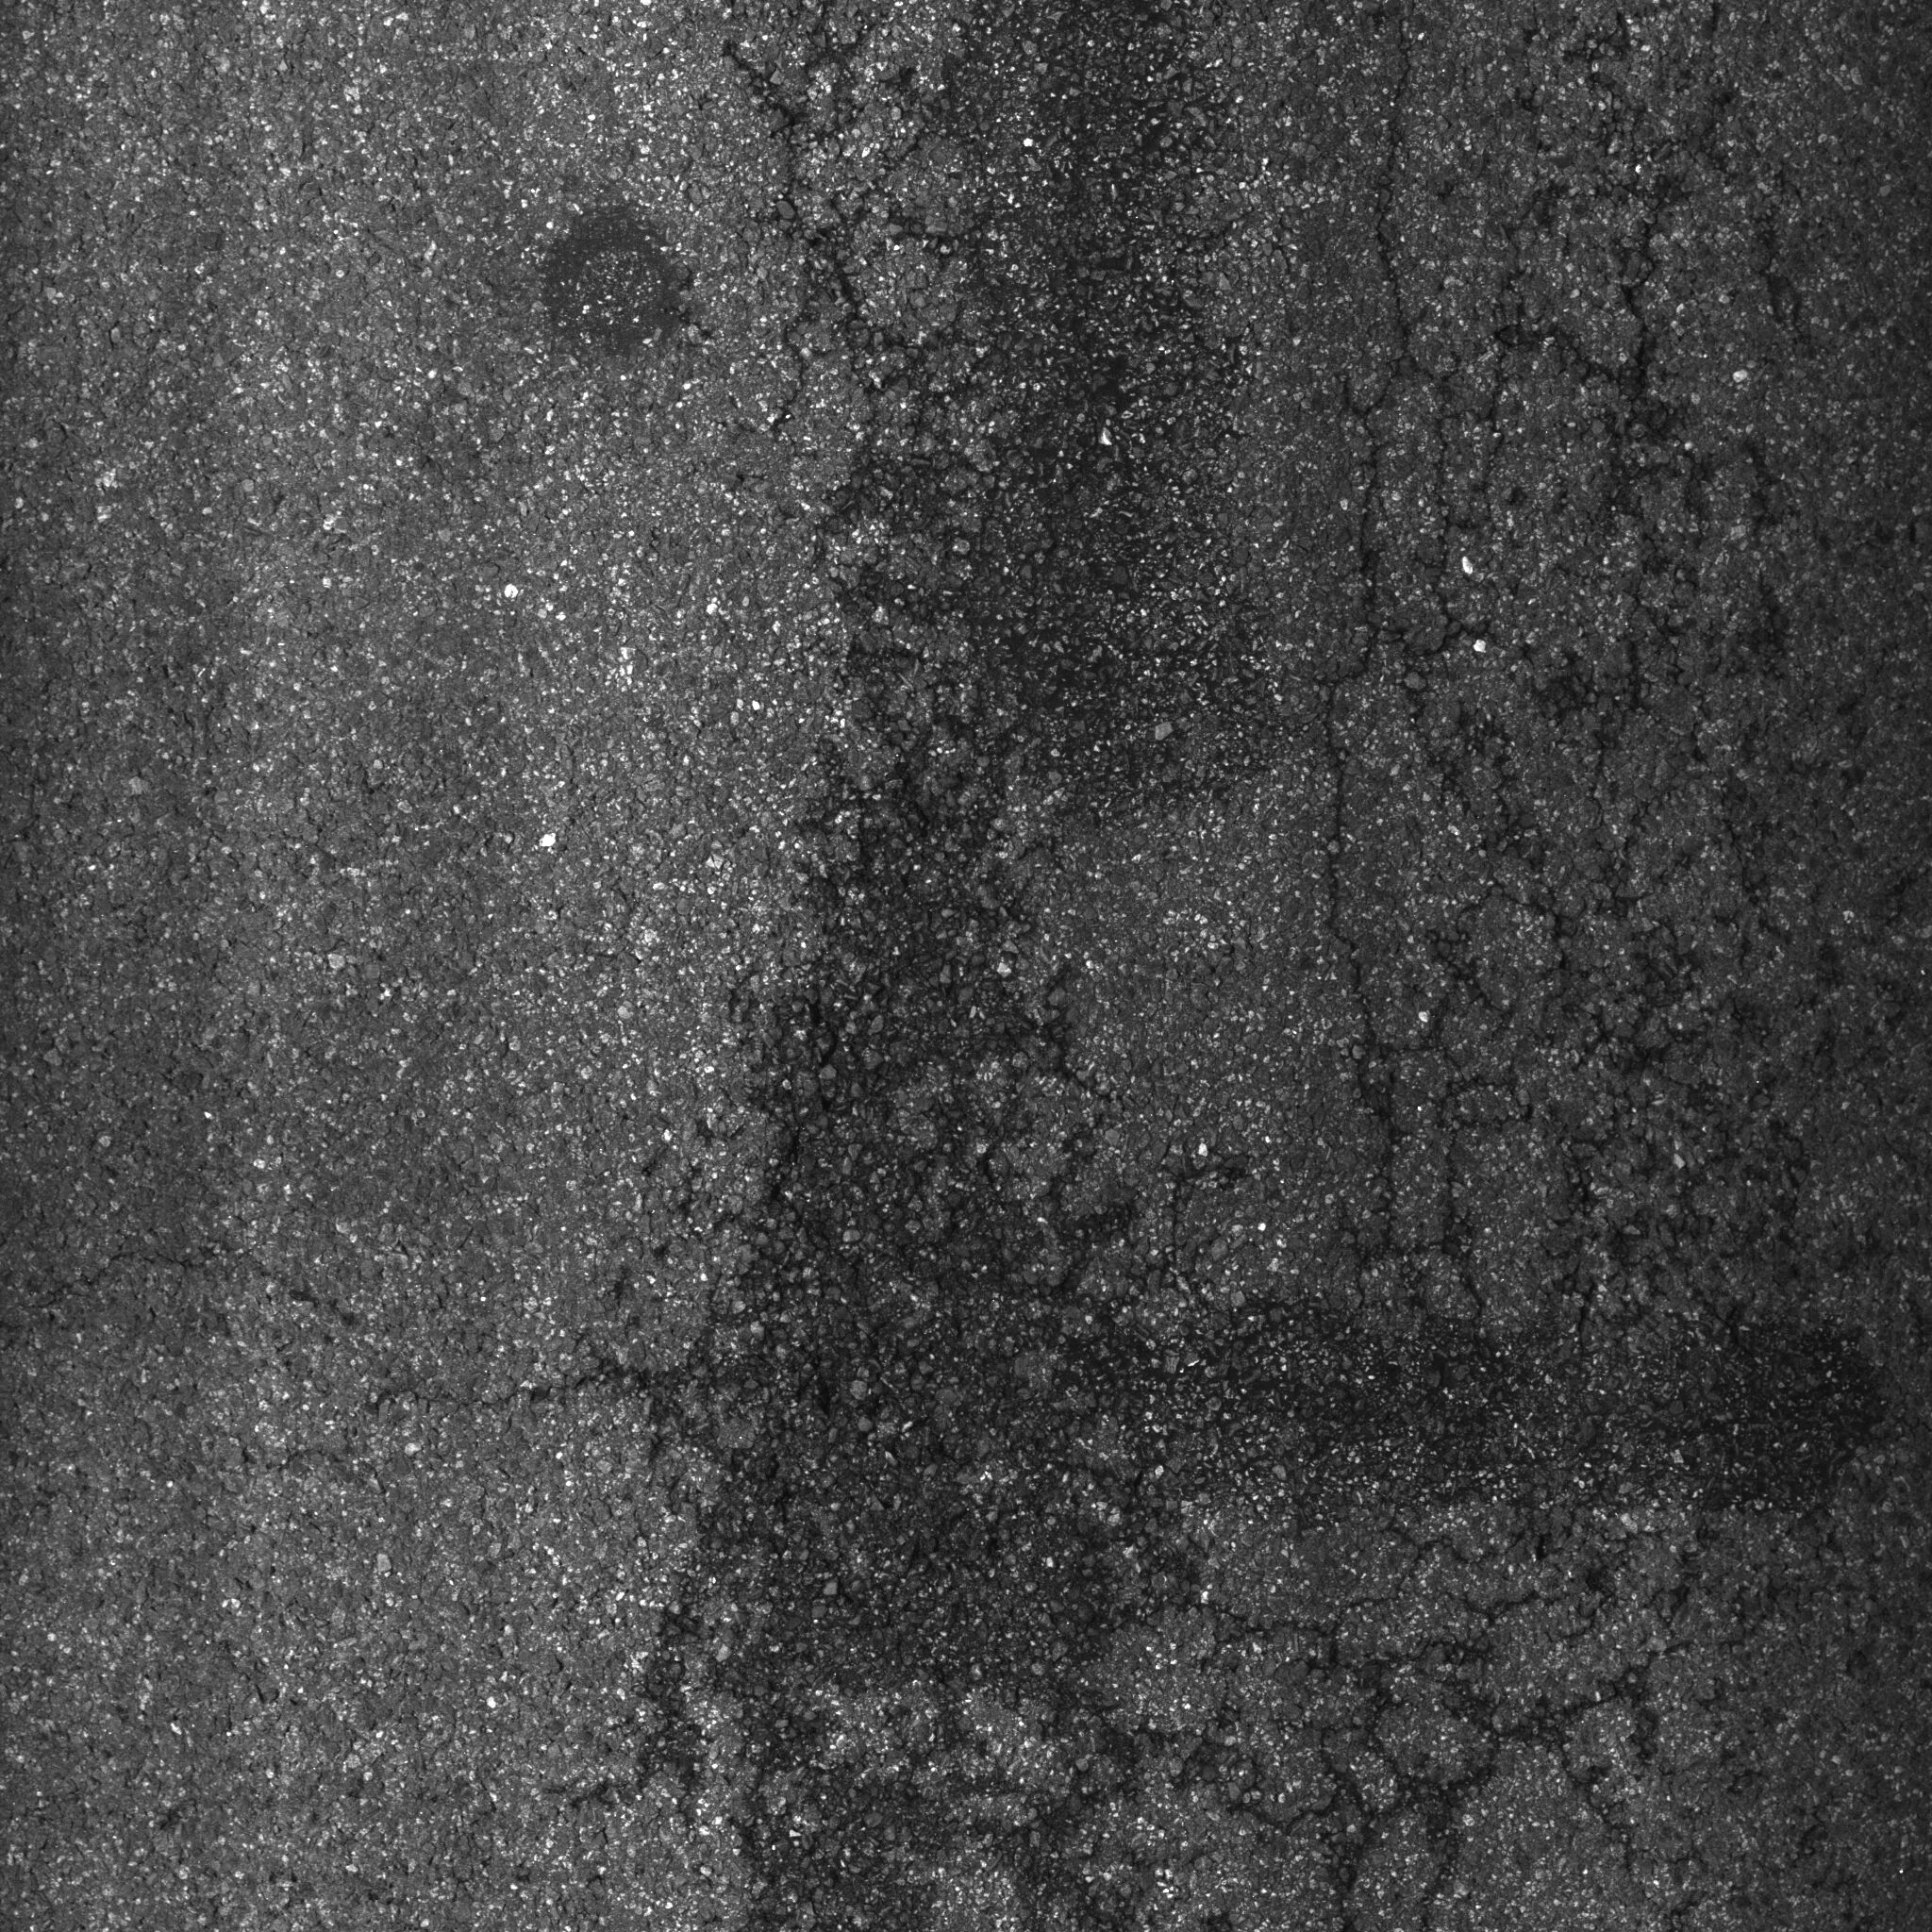alligator: (609, 16, 1879, 1932)
